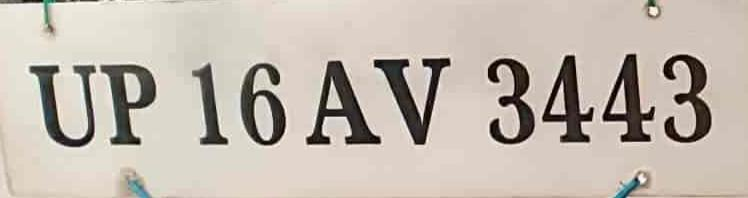1: (187, 59, 233, 150)
3: (483, 46, 542, 155), (659, 44, 715, 147)
4: (598, 46, 659, 153), (539, 47, 599, 149)
6: (238, 58, 291, 151)
A: (302, 52, 388, 157)
P: (98, 58, 161, 152)
U: (26, 56, 99, 155)
V: (373, 39, 460, 154)
